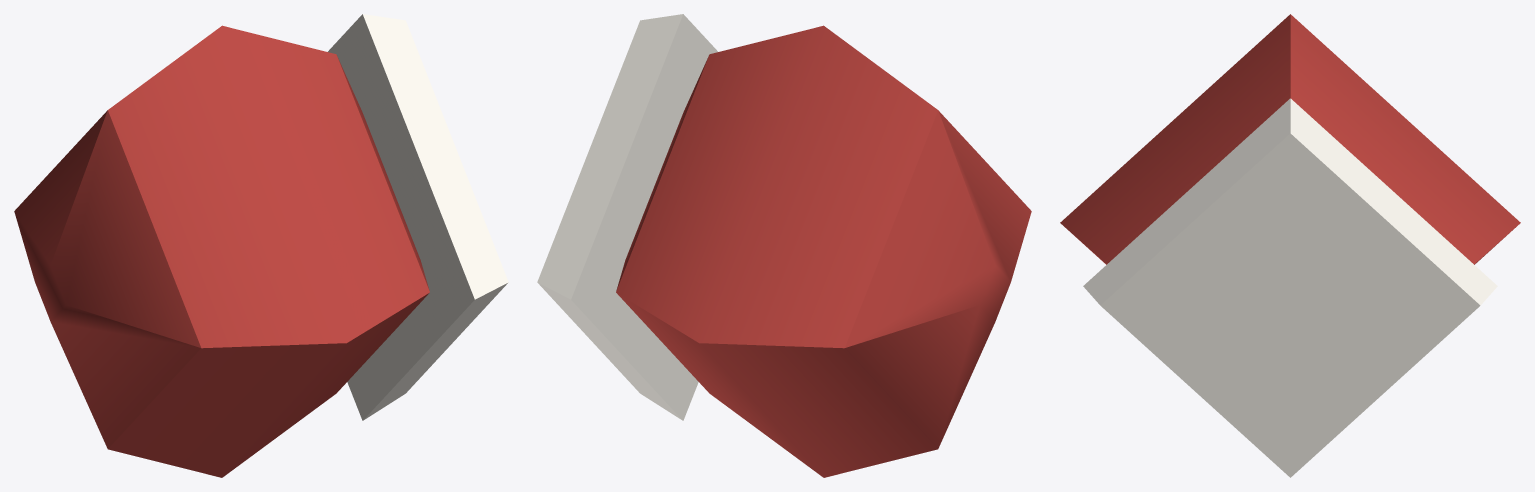
Rendered from round_lod2.glb.
The picture shows the model from 3 angles, left to right: view 1: azimuth 30°, elevation 25°; view 2: azimuth 150°, elevation 25°; view 3: azimuth 270°, elevation 25°; orthographic projection. The views are drawn at different scales.
Parts seen in each view (by area): view 1: round_lod2; view 2: round_lod2; view 3: round_lod2.
Boxes of the visible parts, <box> form: round_lod2: <box>14,14,508,477</box>; round_lod2: <box>537,14,1031,477</box>; round_lod2: <box>1060,14,1520,477</box>.
Size of the model in its own units: 0.0657 by 0.08 by 0.08.
